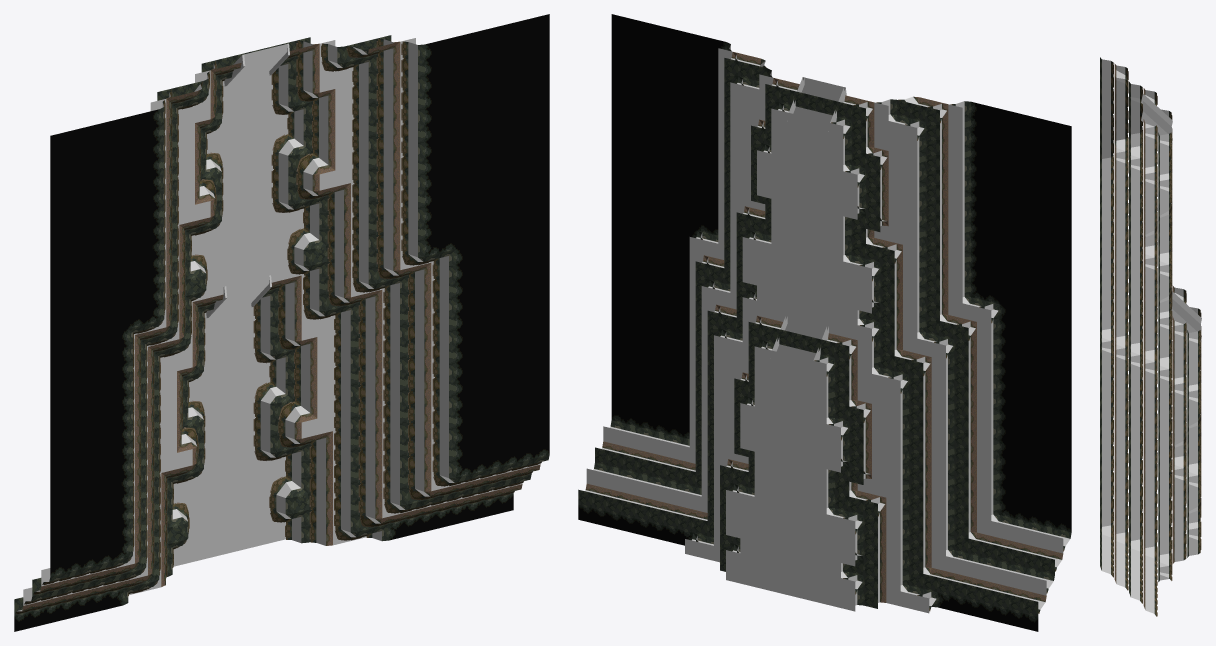
File: Victory-Road-4_00_04.obj
3 views of the same model, side by side, from view 1: azimuth 30°, elevation 25°; view 2: azimuth 150°, elevation 25°; view 3: azimuth 270°, elevation 25° (orthographic). The views are drawn at different scales.
Parts seen in each view (by area): view 1: map; view 2: map; view 3: map.
Boxes of the visible parts, <box> form: map: <box>14,14,549,631</box>; map: <box>578,14,1071,631</box>; map: <box>1100,57,1201,616</box>.
Size of the model in its own units: 32 by 32.5 by 7.01.
